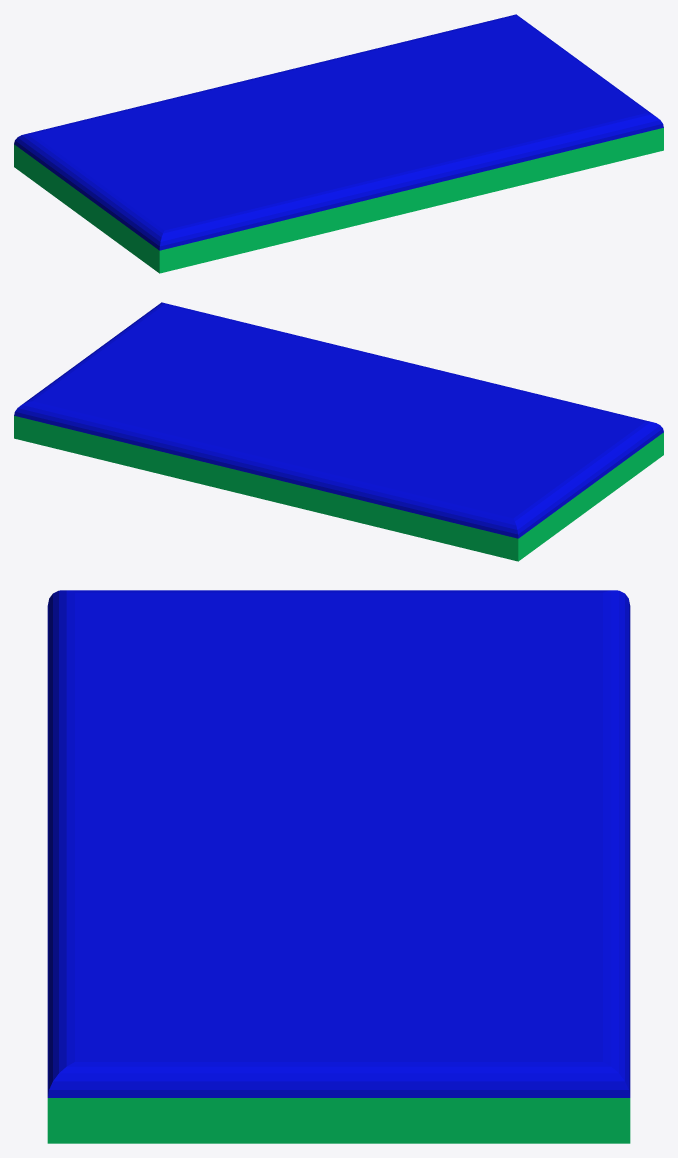
File: End.fbx
The picture shows the model from 3 angles, top to bottom: view 1: azimuth 30°, elevation 25°; view 2: azimuth 150°, elevation 25°; view 3: azimuth 270°, elevation 25°; orthographic projection. The views are drawn at different scales.
Parts seen in each view (by area): view 1: Cube; view 2: Cube; view 3: Cube.
Boxes of the visible parts, box(x1,y1,x2,y2) form: Cube: box(14, 14, 663, 273); Cube: box(14, 302, 663, 561); Cube: box(47, 590, 630, 1143).
Size of the model in its own units: 15 by 1 by 7.5.
